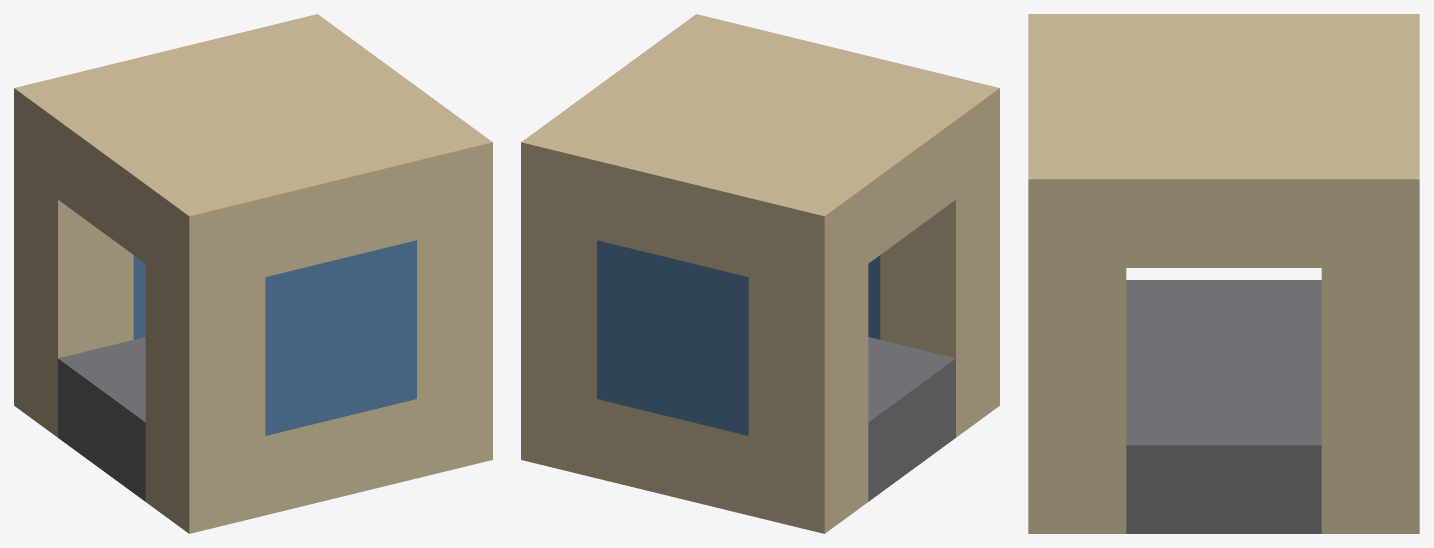
The model's file is building_passage.glb.
3 renders of one model, left to right at view 1: azimuth 30°, elevation 25°; view 2: azimuth 150°, elevation 25°; view 3: azimuth 270°, elevation 25°, orthographic. The views are drawn at different scales.
Visible parts, largest first — view 1: building_passage; view 2: building_passage; view 3: building_passage.
Boxes of the visible parts, left/top/right/bottom form: building_passage: left=14, top=14, right=492, bottom=533; building_passage: left=521, top=14, right=999, bottom=533; building_passage: left=1028, top=14, right=1419, bottom=533.
Size of the model in its own units: 1 by 1 by 1.
Materials: 1 (1 with a texture image).
